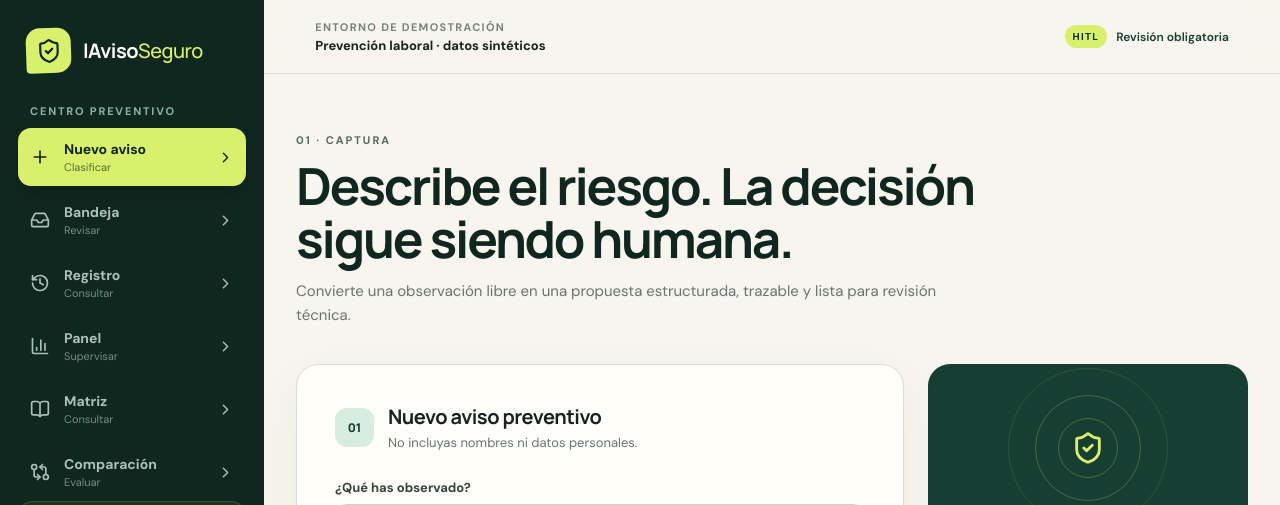
IAviso Seguro › mantiene el bloque IA cuando el panorama preventivo no está disponible
The width and height of the screenshot is (1280, 505).
Click the button "Panel Supervisar" at [132, 346], box left=18, top=317, right=246, bottom=375
(page scrolled)
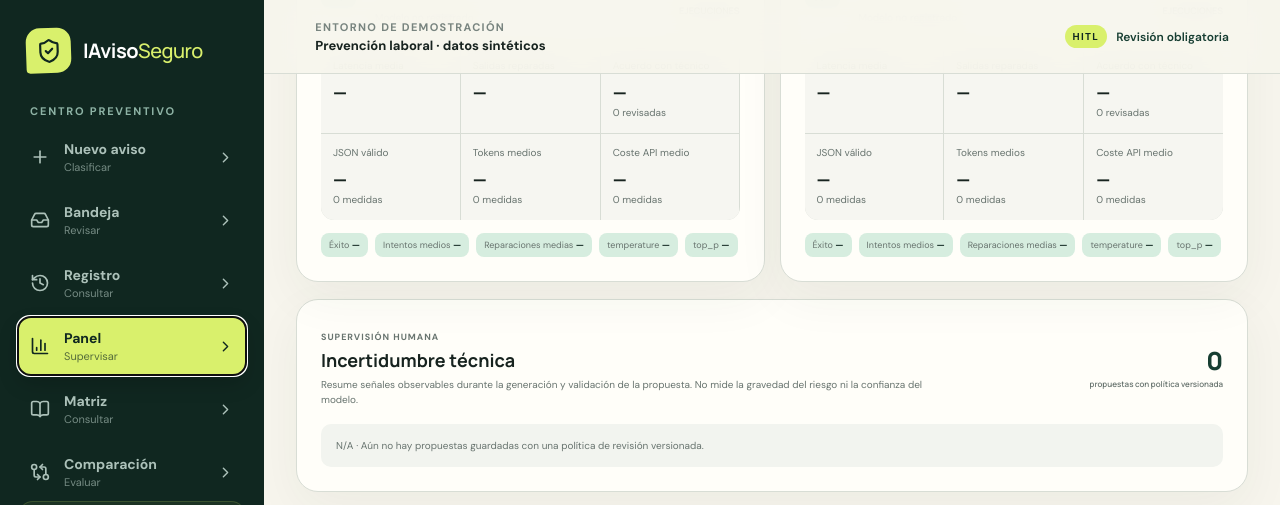
Now the heading "Incertidumbre técnica" is shown, box left=321, top=348, right=515, bottom=372
